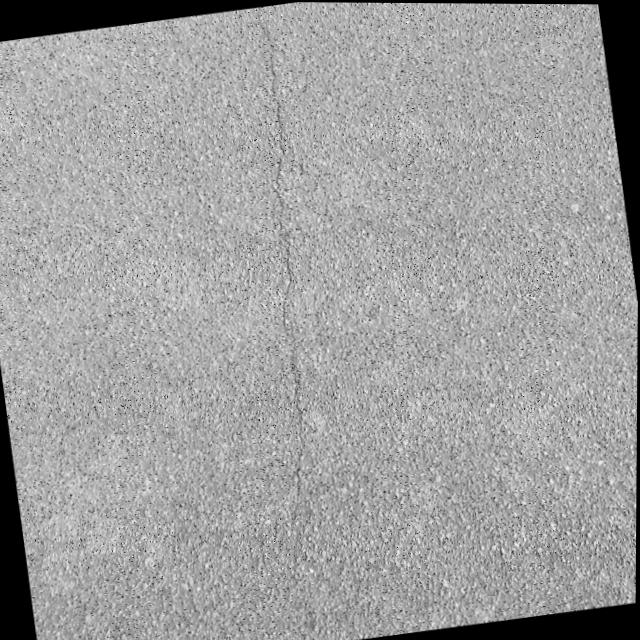Crack: (221, 4, 353, 543)
